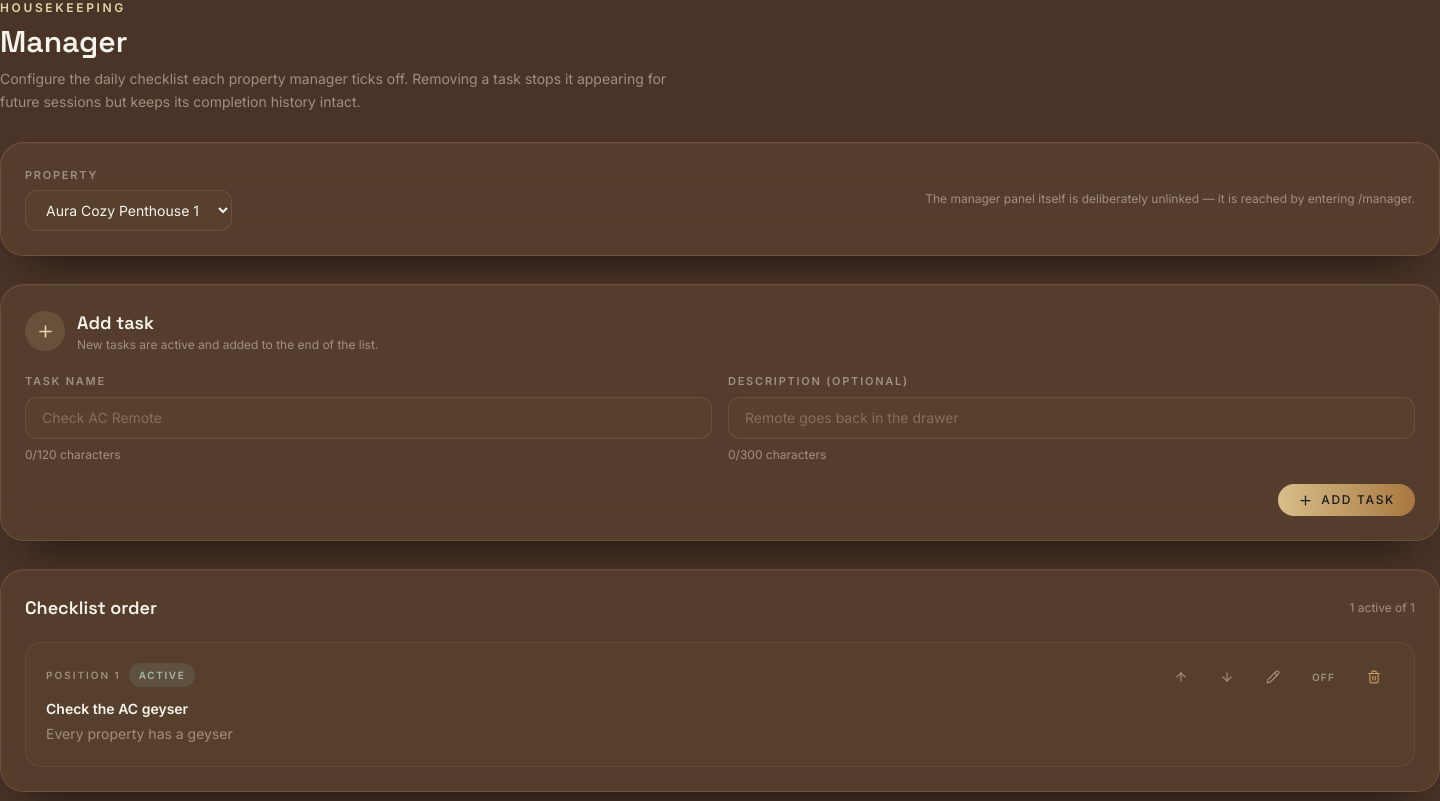
Test: ManagerTab › edits a task name and description
Expected: the text "Check the AC geyser" is shown, [46,700,188,717]
Click the button named "Edit Check the AC geyser": (1273, 677) [1253,663,1293,691]
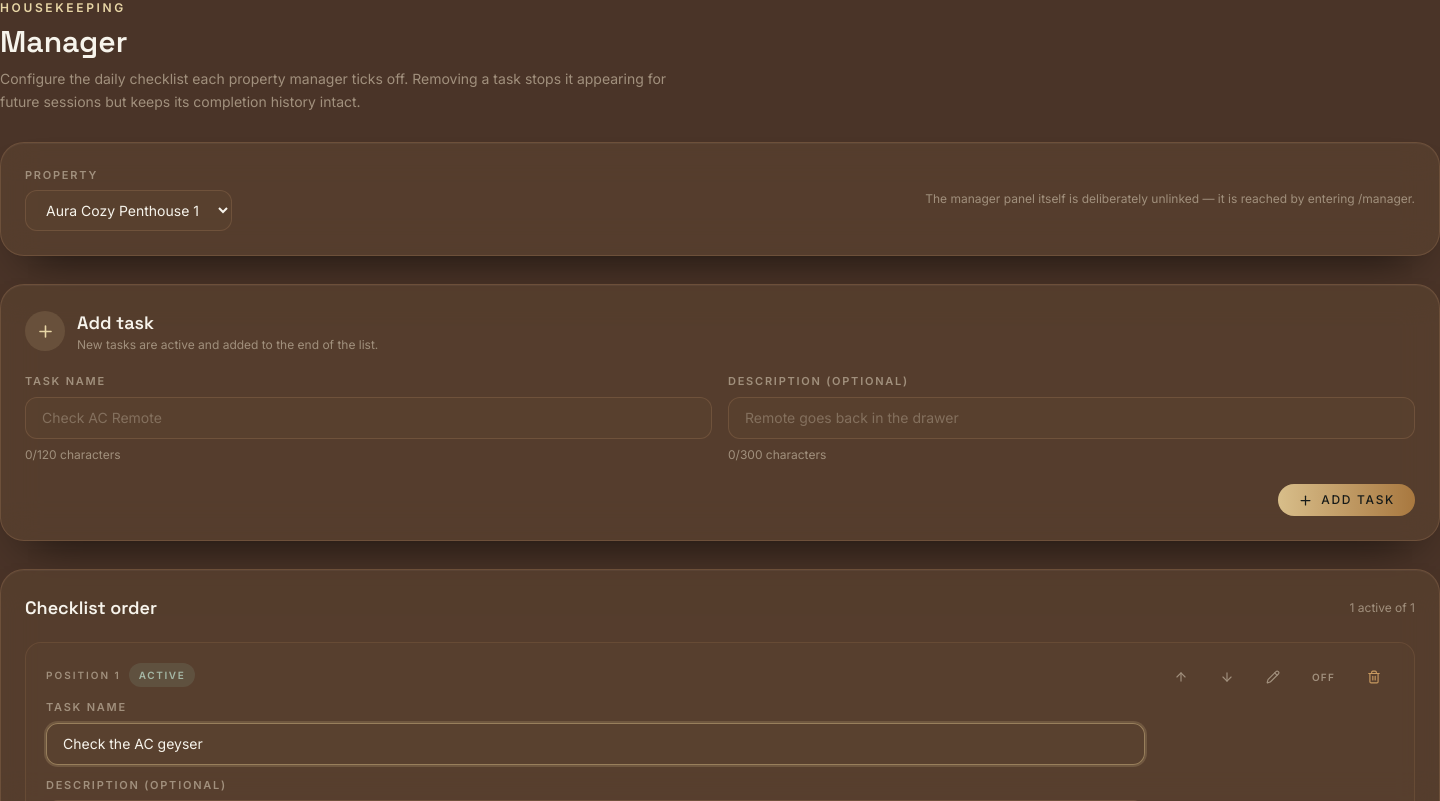
Replace the text in the field named "Edit task name" with "Check the AC filter": (596, 744) [46,723,1145,765]
(page scrolled)
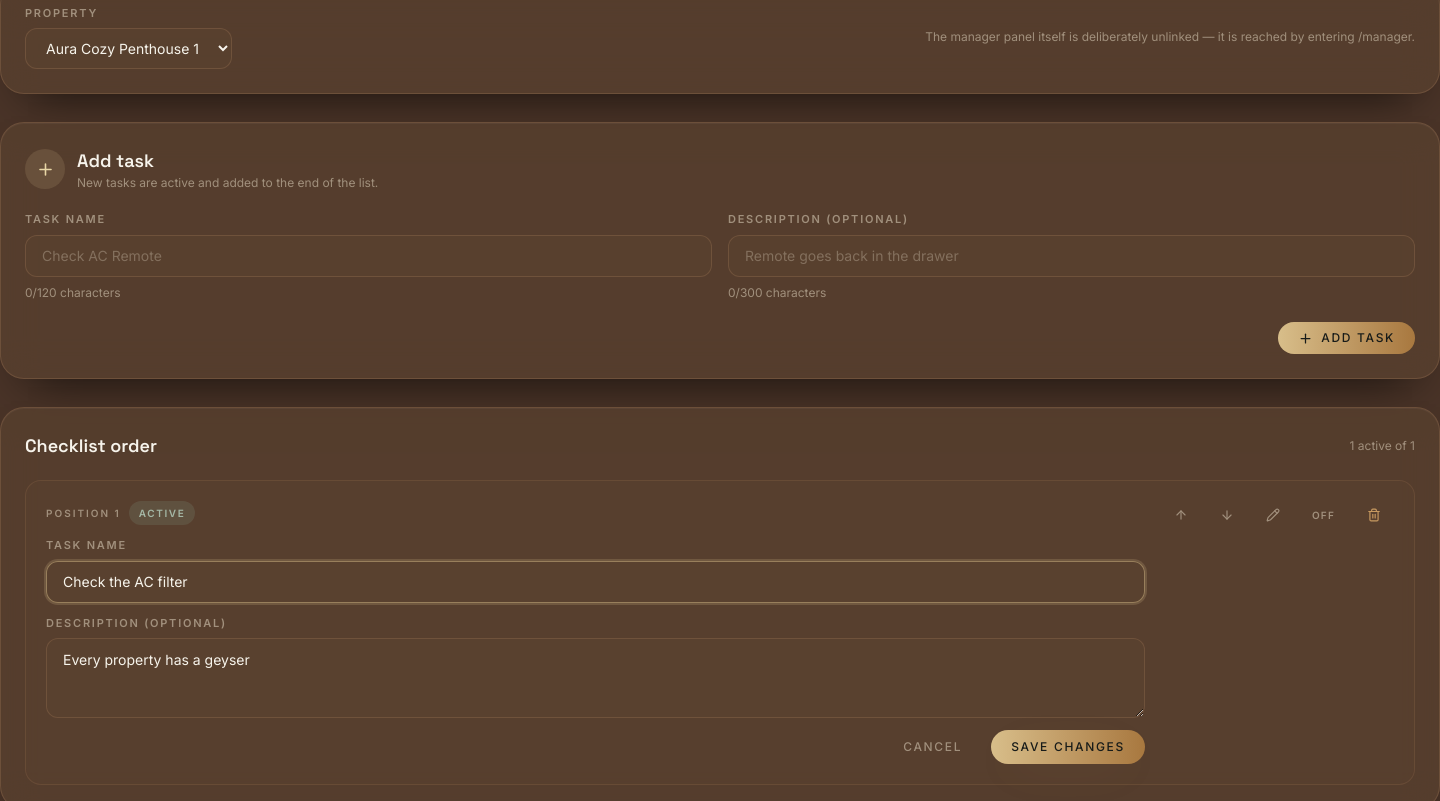
Replace the text in the text box named "Edit task description" with "  Cleaned quarterly  ": (596, 678) [46,638,1145,718]
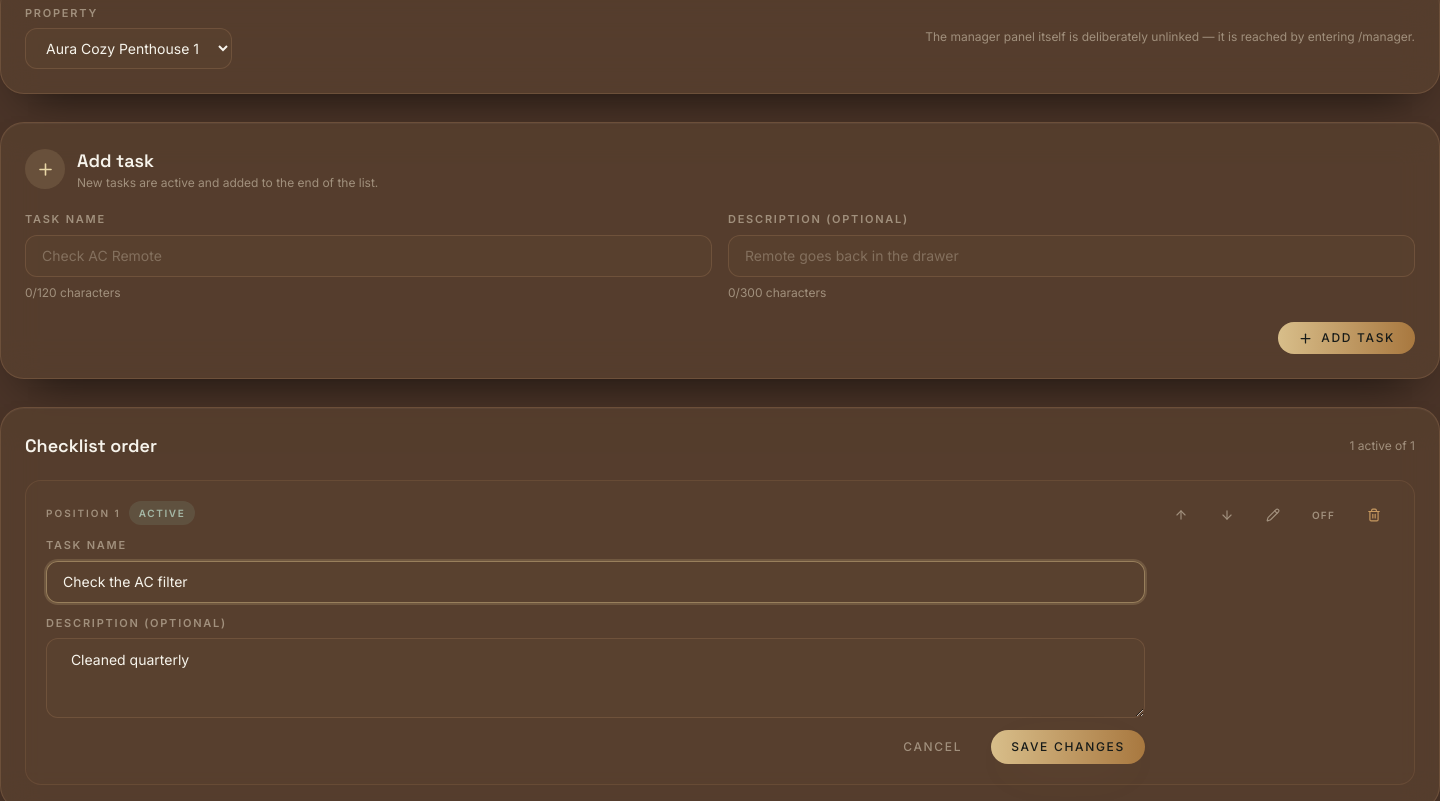
Click the button "Save changes": (1068, 747) [991,730,1145,764]
(page scrolled)
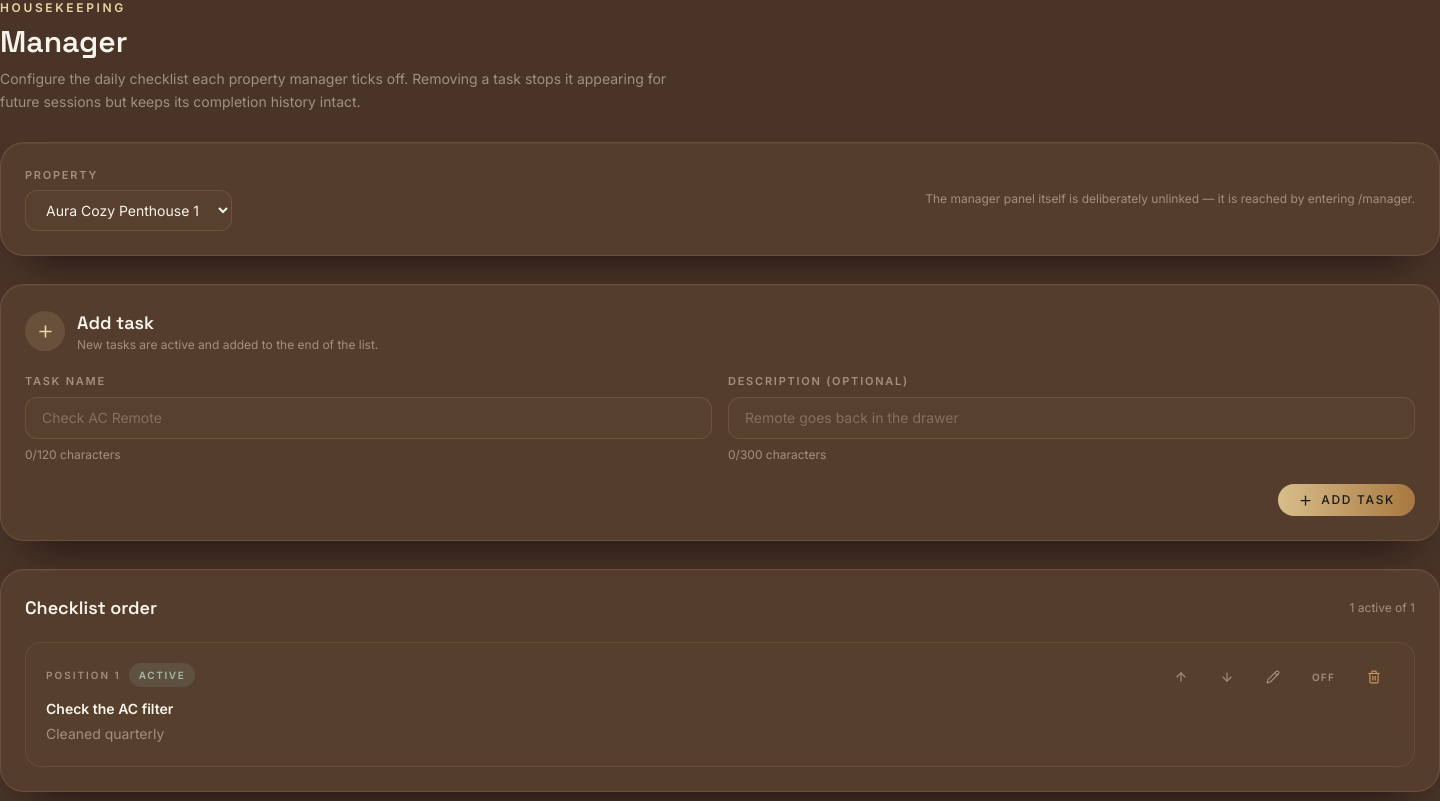
Expected: the text "Check the AC filter" is shown, [46,700,173,717]
